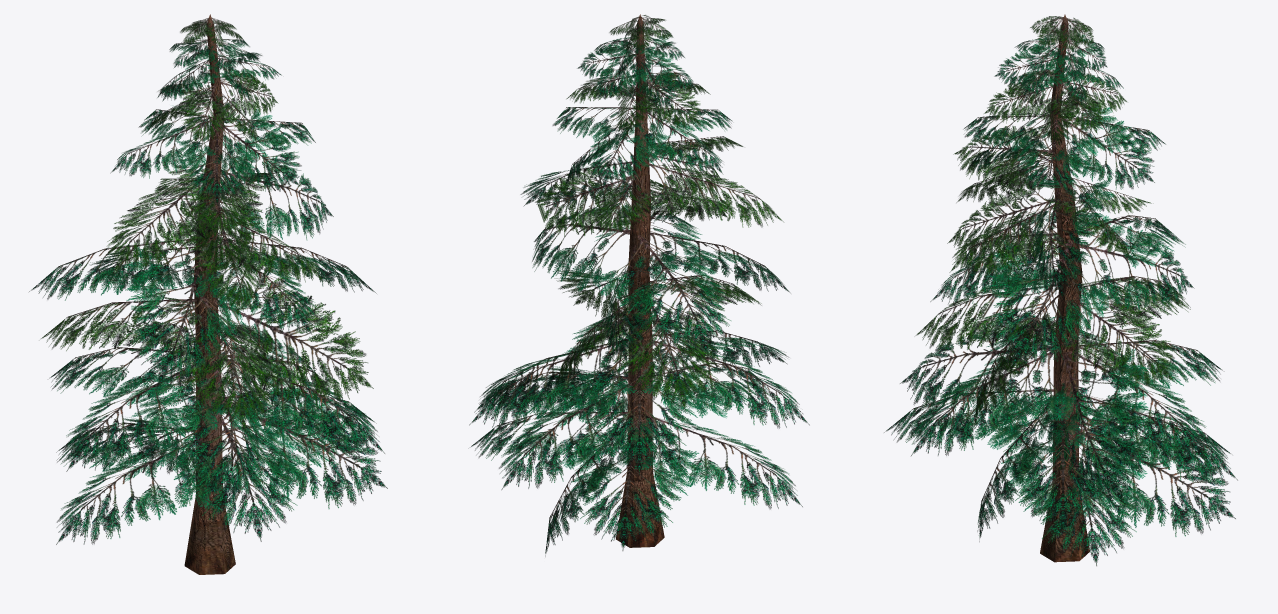
File: tree2_2.glb
The picture shows the model from 3 angles, left to right: view 1: azimuth 30°, elevation 25°; view 2: azimuth 150°, elevation 25°; view 3: azimuth 270°, elevation 25°; orthographic projection. The views are drawn at different scales.
Visible parts, largest first — view 1: tree2_2-col; view 2: tree2_2-col; view 3: tree2_2-col.
Boxes of the visible parts, x1,y1,x2,y2 form: tree2_2-col: (29,14,387,574); tree2_2-col: (469,14,809,556); tree2_2-col: (884,14,1237,565).
Size of the model in its own units: 7.04 by 10.92 by 7.01.
Materials: 2 (2 with a texture image).
